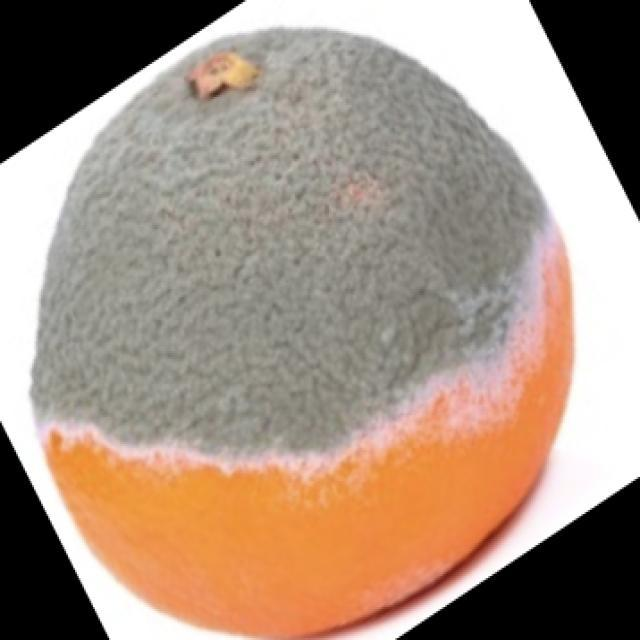sangat-busuk: (31, 31, 571, 634)
